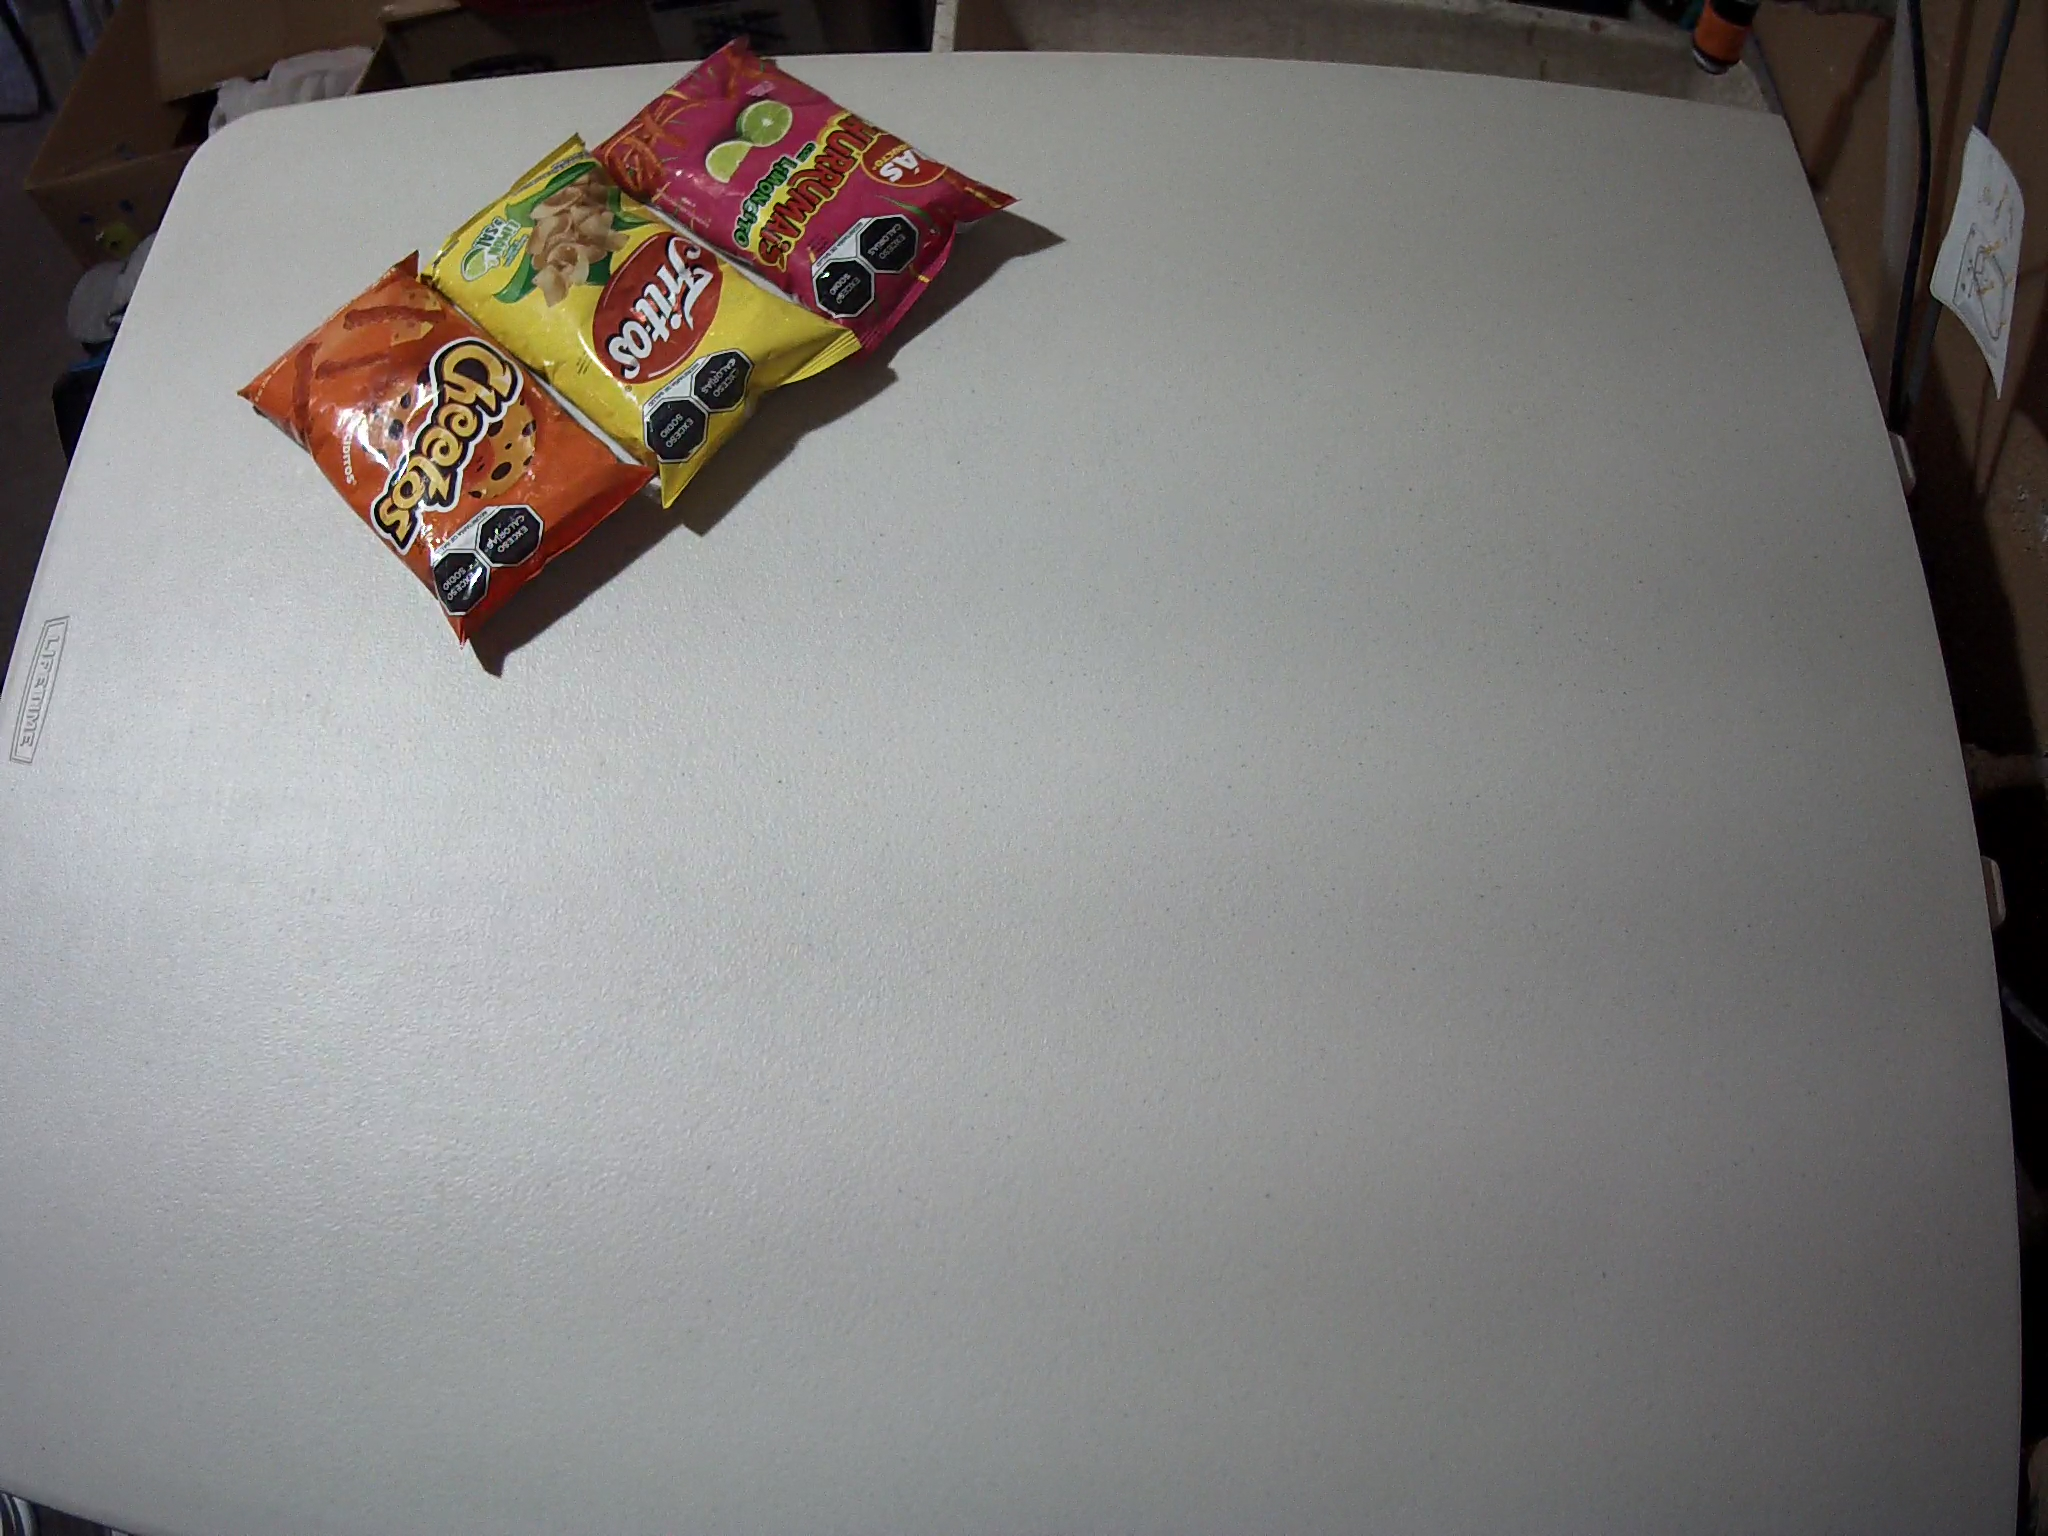CheetosTorciditos_55_F: (235, 245, 660, 647)
Churrumais_70_F: (589, 40, 1021, 353)
FritosSalLimon_65_F: (419, 131, 863, 511)
